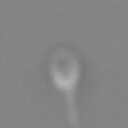normal: (57, 90, 85, 128)
